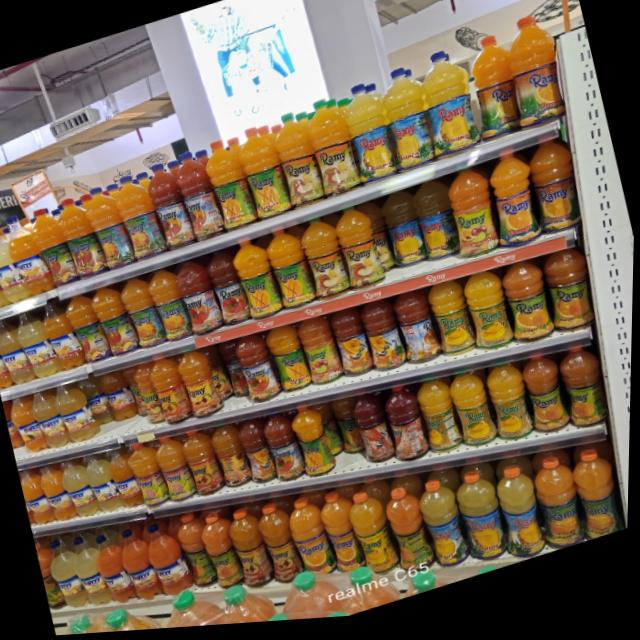ramy_plastique: (495, 15, 573, 139), (414, 50, 486, 168), (373, 66, 441, 181), (460, 36, 528, 151), (521, 137, 591, 248), (481, 151, 549, 261), (300, 95, 366, 207), (266, 106, 329, 217), (528, 455, 593, 560), (340, 83, 402, 192), (232, 122, 294, 229), (539, 249, 605, 348), (439, 168, 503, 270), (489, 464, 551, 569), (451, 470, 513, 575), (414, 478, 475, 581), (200, 136, 260, 240), (496, 259, 559, 357), (568, 450, 630, 548), (345, 489, 405, 587), (142, 156, 199, 257), (329, 203, 388, 300), (170, 147, 227, 247), (110, 169, 168, 267), (555, 346, 615, 440), (52, 190, 111, 285), (295, 213, 353, 309), (78, 180, 136, 276), (284, 495, 341, 590), (227, 238, 287, 327), (518, 354, 576, 446), (316, 490, 372, 585), (262, 224, 318, 318), (460, 271, 517, 363), (26, 199, 81, 293), (225, 504, 280, 597), (482, 362, 538, 453), (408, 179, 463, 271), (445, 370, 500, 460), (197, 509, 252, 599), (414, 376, 469, 466), (380, 385, 436, 473), (254, 501, 307, 593), (142, 518, 197, 604), (424, 281, 478, 368), (390, 290, 444, 376), (378, 189, 430, 278), (202, 246, 255, 333), (172, 256, 225, 341), (358, 297, 411, 382), (145, 265, 197, 349), (350, 393, 402, 477), (116, 273, 168, 356), (289, 404, 341, 487), (88, 280, 140, 363), (116, 522, 166, 608), (233, 331, 285, 413), (173, 509, 222, 596), (146, 352, 198, 433), (264, 324, 316, 404), (175, 345, 226, 426), (296, 315, 347, 396), (328, 307, 379, 388), (62, 288, 112, 368), (13, 304, 64, 381), (153, 432, 202, 510), (38, 296, 87, 374), (261, 411, 309, 490), (209, 421, 256, 498), (46, 542, 94, 616), (53, 377, 102, 447), (125, 439, 171, 512), (235, 416, 280, 490), (58, 452, 103, 522), (82, 447, 126, 518), (105, 444, 148, 514), (0, 215, 33, 306), (30, 385, 74, 453), (37, 458, 79, 526), (0, 310, 37, 387), (8, 392, 51, 457), (329, 396, 370, 463), (199, 342, 238, 409), (131, 359, 170, 425), (218, 338, 255, 405), (98, 368, 137, 427)
